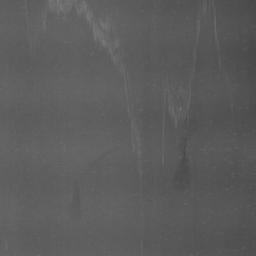Silk spot: (90, 43, 113, 67), (161, 98, 171, 136), (182, 110, 197, 132), (81, 15, 92, 35), (68, 6, 77, 20)
